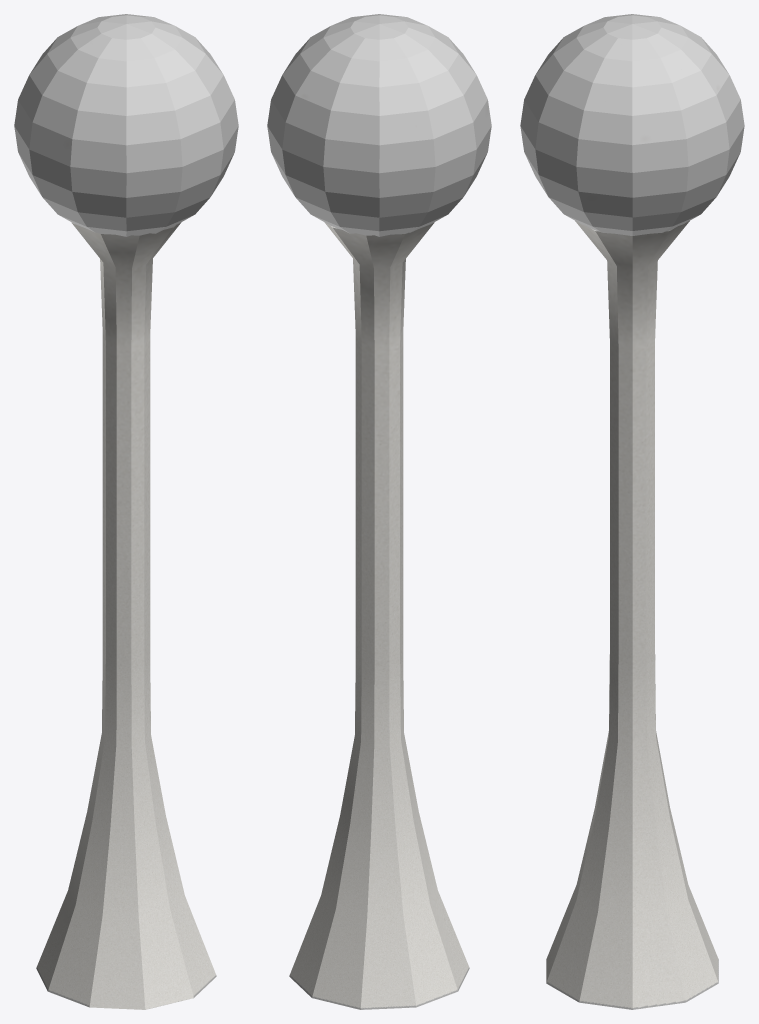
The model's file is Lamp_Post.glb.
3 views of the same model, side by side, from view 1: azimuth 30°, elevation 25°; view 2: azimuth 150°, elevation 25°; view 3: azimuth 270°, elevation 25° (orthographic).
Parts seen in each view (by area): view 1: lampHIGH; view 2: lampHIGH; view 3: lampHIGH.
Part boxes in pixels (left/top/right/bottom): lampHIGH: left=14, top=14, right=238, bottom=1009; lampHIGH: left=267, top=14, right=491, bottom=1009; lampHIGH: left=520, top=14, right=744, bottom=1009.
Bounding box in the file's own units: 2.54 × 11.83 × 2.54.
1 material, 1 textured.
